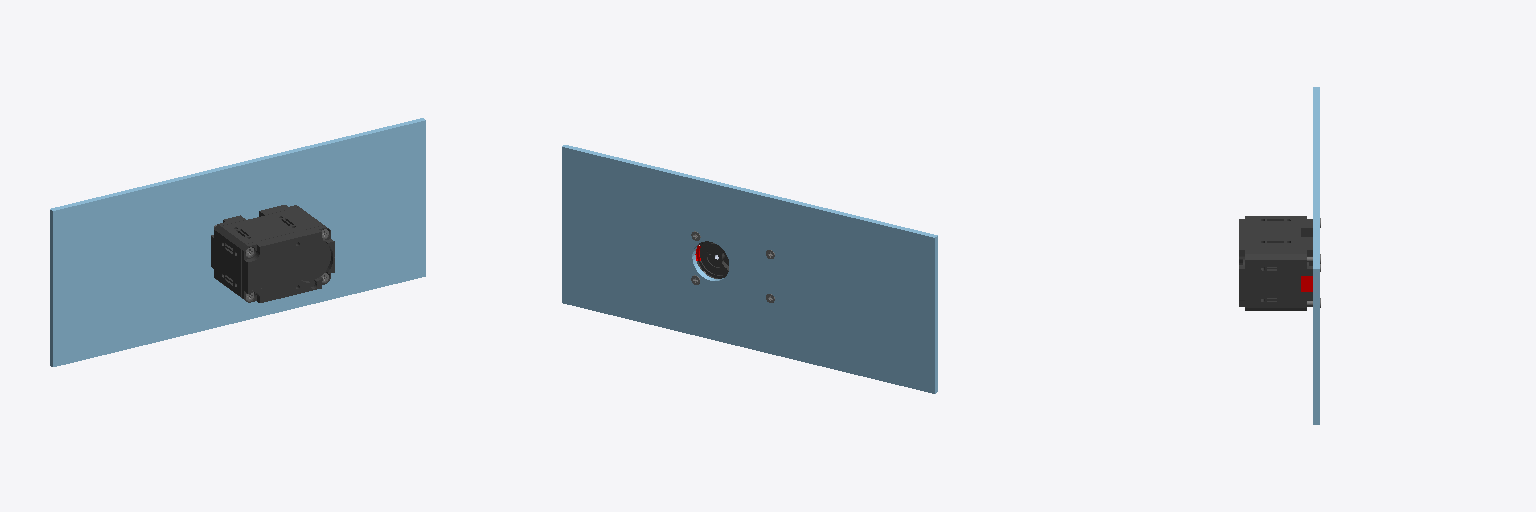
3 views of the same model, side by side, from view 1: azimuth 30°, elevation 25°; view 2: azimuth 150°, elevation 25°; view 3: azimuth 270°, elevation 25° (orthographic).
Visible parts, largest first — view 1: mesh1, mesh188, mesh227, mesh3, mesh184, mesh48; view 2: mesh2, mesh3; view 3: mesh202, mesh227, mesh3, mesh6.
Part boxes in pixels (x1,y1,x2,y2): mesh1: (53, 120, 425, 366); mesh188: (248, 232, 322, 302); mesh227: (221, 207, 322, 243); mesh3: (50, 118, 424, 210); mesh184: (295, 241, 330, 286); mesh48: (217, 232, 240, 296); mesh2: (562, 147, 934, 393); mesh3: (562, 145, 937, 237); mesh202: (1251, 260, 1300, 307); mesh227: (1251, 216, 1300, 253); mesh3: (1313, 87, 1319, 268); mesh6: (1313, 269, 1319, 424).
Bounding box in the file's own units: 0.2 × 0.08 × 0.0383.